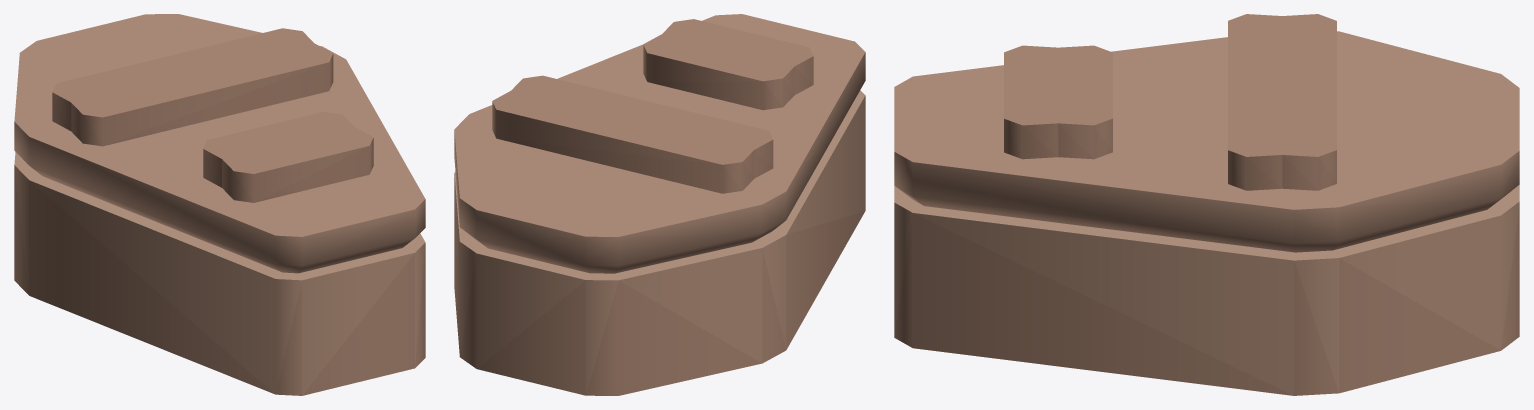
Rendered from kgy_coffin.fbx.
3 renders of one model, left to right at view 1: azimuth 30°, elevation 25°; view 2: azimuth 150°, elevation 25°; view 3: azimuth 270°, elevation 25°, orthographic. The views are drawn at different scales.
Visible parts, largest first — view 1: coffin; view 2: coffin; view 3: coffin.
Boxes of the visible parts, left/top/right/bottom form: coffin: left=14, top=14, right=425, bottom=395; coffin: left=454, top=14, right=865, bottom=395; coffin: left=894, top=14, right=1519, bottom=395.
Size of the model in its own units: 57.38 by 32.5 by 83.78.
